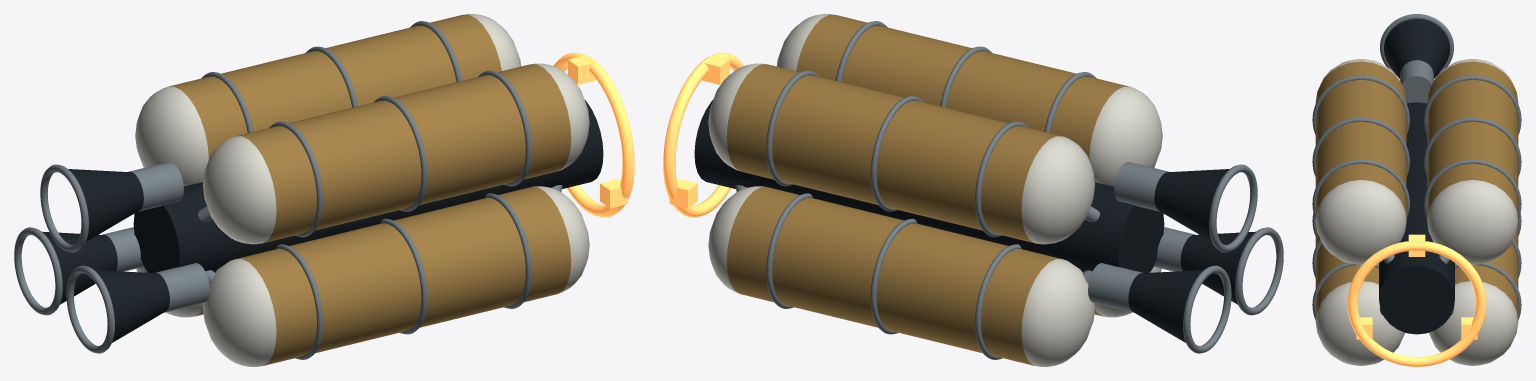
The model's file is aether-atlas-drop-stage.glb.
The picture shows the model from 3 angles, left to right: view 1: azimuth 30°, elevation 25°; view 2: azimuth 150°, elevation 25°; view 3: azimuth 270°, elevation 25°; orthographic projection. The views are drawn at different scales.
Parts seen in each view (by area): view 1: Insulated_tank (×3), Tank_dome (×6), Structural_core, Nozzle_bell (×3), Tank_restraint (×9), Nozzle_lip (×3), Combustion_chamber (×3), Separation_collar, Release_latch (×2); view 2: Insulated_tank (×3), Tank_dome (×6), Structural_core, Nozzle_bell (×3), Tank_restraint (×9), Nozzle_lip (×3), Combustion_chamber (×3), Separation_collar, Release_latch (×2); view 3: Insulated_tank (×4), Tank_dome (×6), Structural_core, Tank_restraint (×8), Separation_collar, Nozzle_bell, Combustion_chamber, Nozzle_lip, Release_latch (×3).
Part boxes in pixels (x1,y1,x2,y2): Insulated_tank (×3): [169, 14, 571, 365]; Tank_dome (×6): [135, 14, 589, 366]; Structural_core: [133, 100, 603, 272]; Nozzle_bell (×3): [42, 169, 169, 342]; Tank_restraint (×9): [201, 21, 531, 359]; Nozzle_lip (×3): [14, 164, 114, 353]; Combustion_chamber (×3): [102, 162, 209, 312]; Separation_collar: [553, 52, 634, 217]; Release_latch (×2): [568, 55, 628, 208]; Insulated_tank (×3): [726, 14, 1128, 365]; Tank_dome (×6): [708, 14, 1162, 366]; Structural_core: [694, 100, 1164, 272]; Nozzle_bell (×3): [1128, 169, 1255, 342]; Tank_restraint (×9): [766, 21, 1096, 359]; Nozzle_lip (×3): [1183, 164, 1283, 353]; Combustion_chamber (×3): [1088, 162, 1195, 312]; Separation_collar: [663, 52, 744, 217]; Release_latch (×2): [669, 55, 729, 208]; Insulated_tank (×4): [1315, 61, 1518, 320]; Tank_dome (×6): [1315, 59, 1518, 365]; Structural_core: [1379, 102, 1454, 334]; Tank_restraint (×8): [1312, 75, 1521, 319]; Separation_collar: [1347, 240, 1486, 366]; Nozzle_bell: [1384, 19, 1449, 78]; Combustion_chamber: [1400, 60, 1433, 103]; Nozzle_lip: [1380, 14, 1453, 75]; Release_latch (×3): [1356, 234, 1477, 339].
Bounding box in the file's own units: 8.7 × 3.58 × 3.58.
